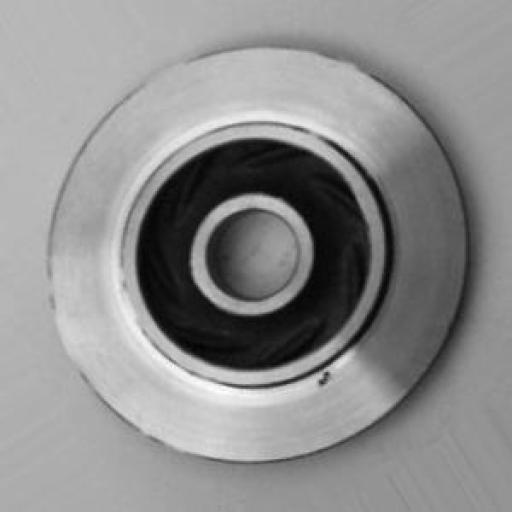defect: (298, 350, 348, 413)
